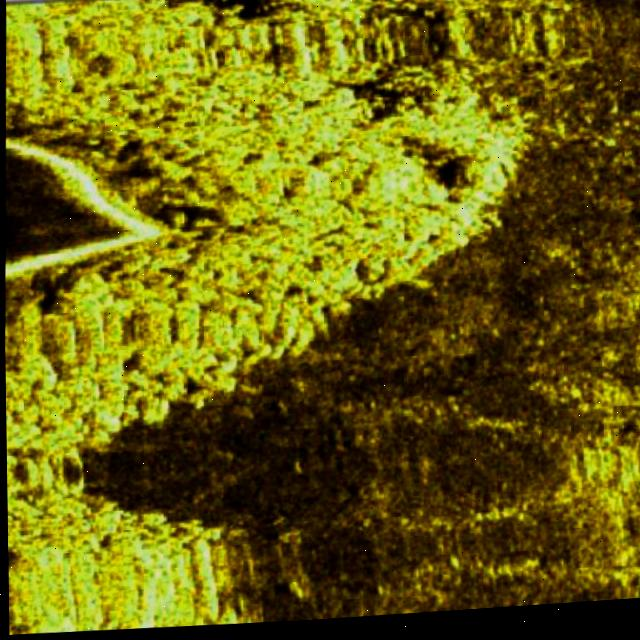bedrock group: (0, 0, 535, 640)
